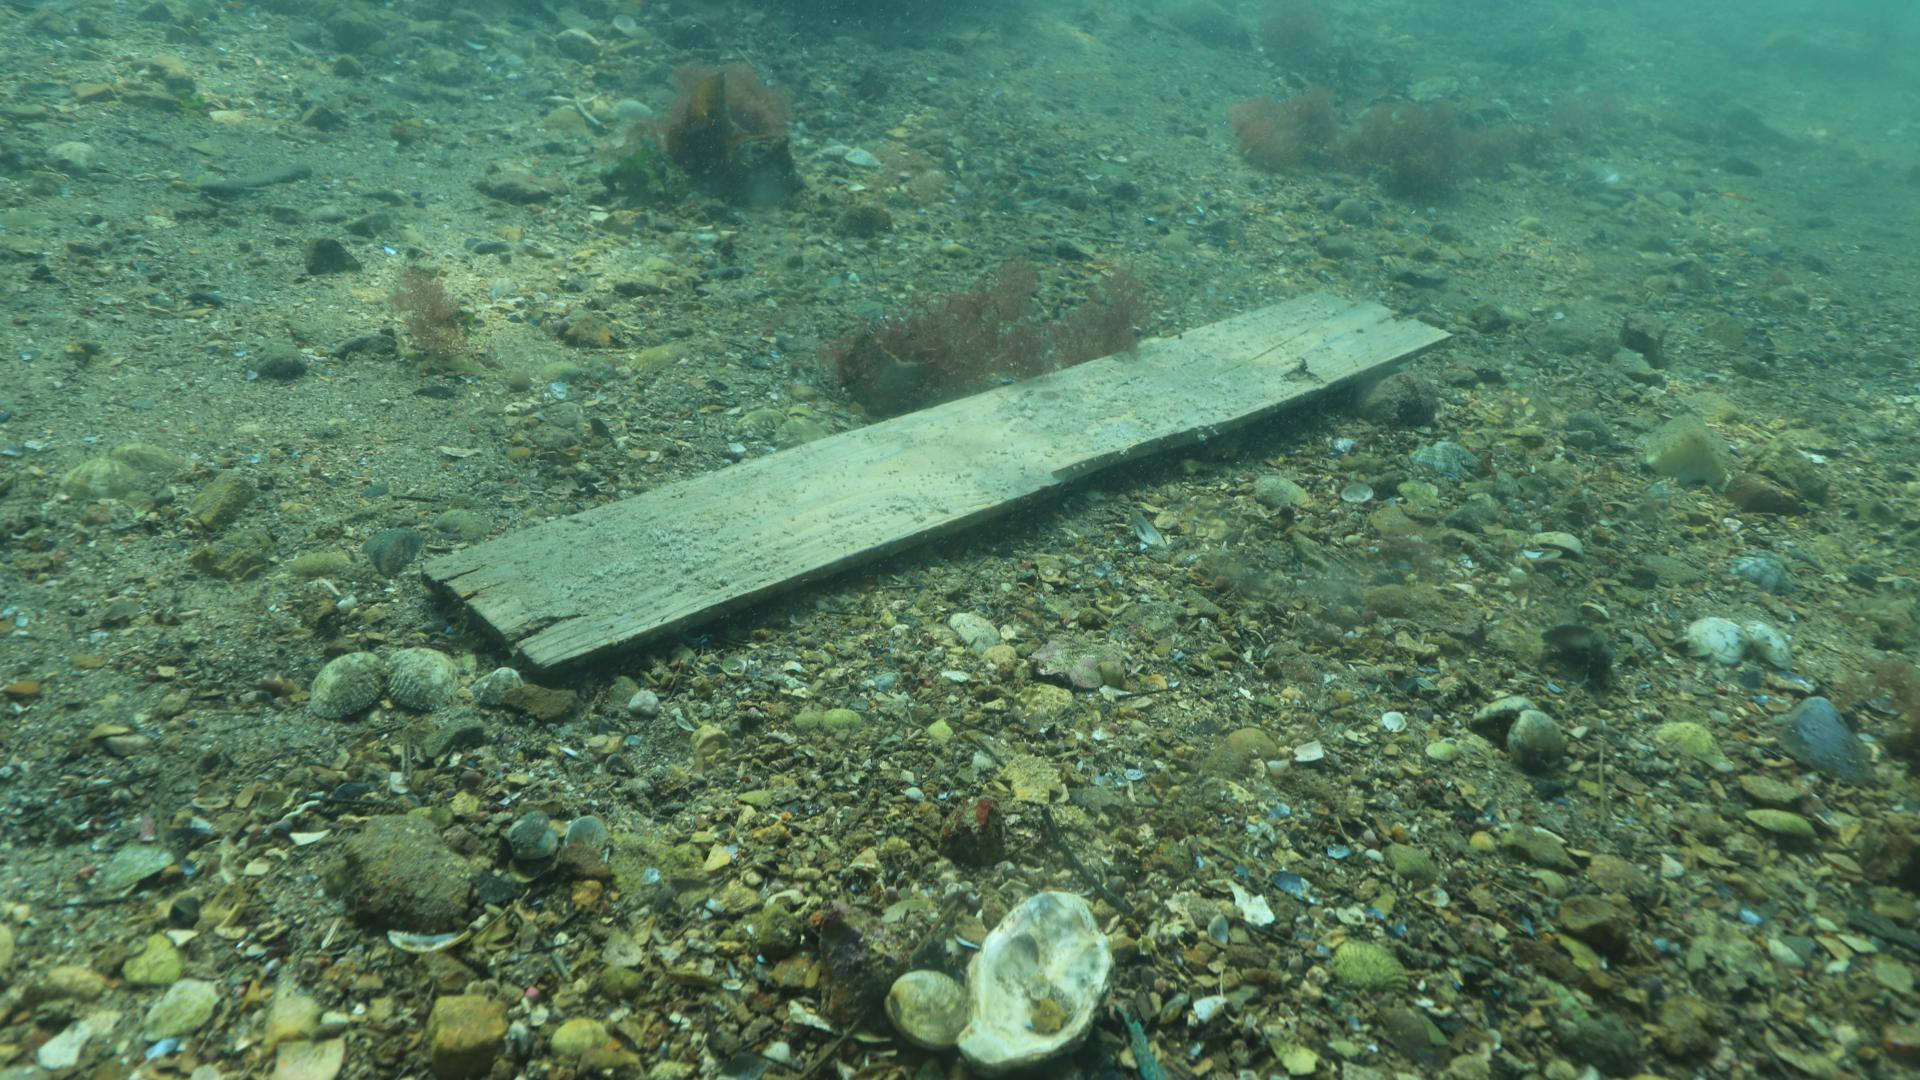wood: (413, 284, 1458, 683)
